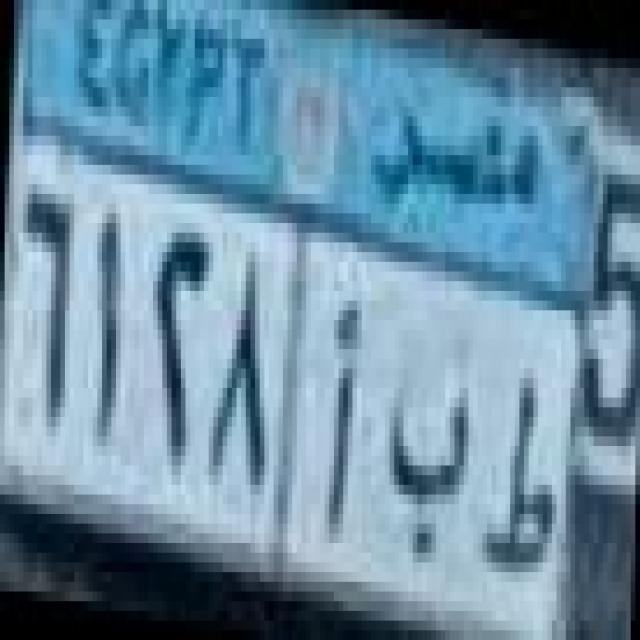1: (92, 206, 131, 452)
2: (148, 212, 215, 477)
6: (15, 188, 88, 428)
8: (205, 245, 274, 496)
Taa: (482, 366, 564, 578)
alef: (316, 290, 368, 556)
baa: (384, 368, 474, 572)
